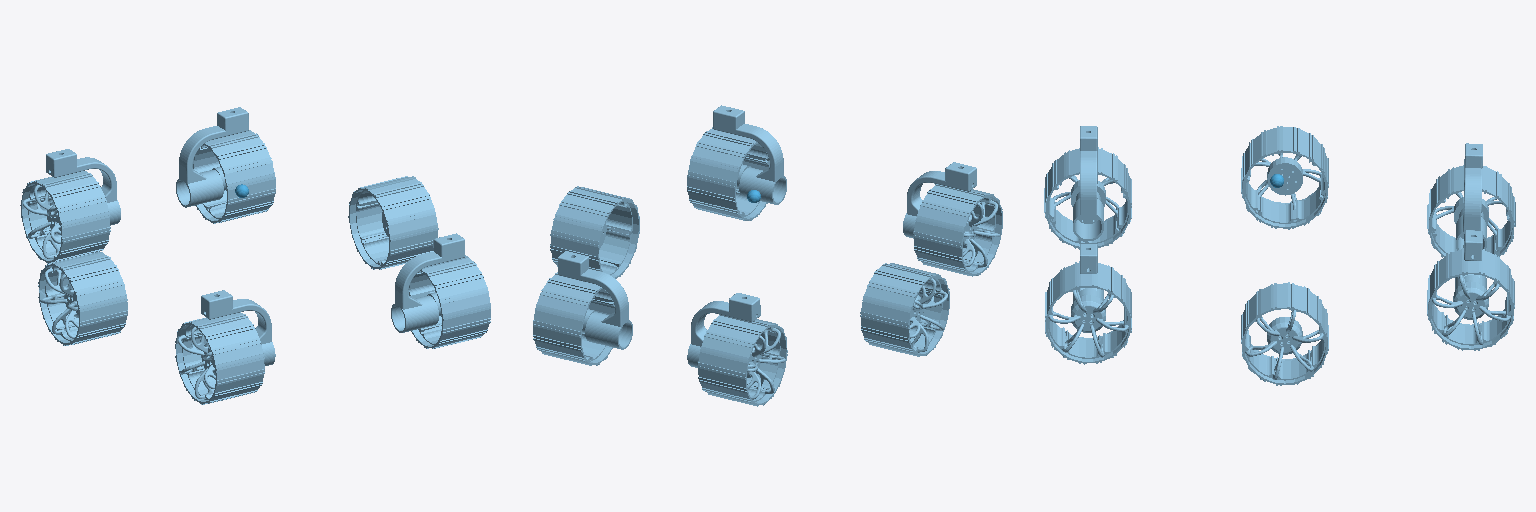
URDF robot description (onshape):
<?xml version="1.0"?>
<robot name="onshape">
  <link name="base_footprint"/>
  <joint name="base_link_joint" type="fixed">
    <origin xyz="0 0 0"/>
    <parent link="base_footprint"/>
    <child link="chassis"/>
  </joint>
  
  <joint name="odom_joint" type="fixed">
    <origin xyz="0 0 0" rpy="0 0 0"/>
    <parent link="base_footprint"/> <!-- Link to which odometry is attached -->
    <child link="odom_frame"/> <!-- Virtual frame for odometry -->
  </joint>

  <!-- Define the odometry frame -->
  <link name="odom_frame">
    <visual>
      <geometry>
        <sphere radius="0.01"/>
      </geometry>
      <origin xyz="0 0 0"/>
      <material name="green"/>
    </visual>
  </link>
  
  <link name="chassis" fixed="true">
    <visual>
      <origin xyz="-0.03718799868843190165 -0.081251381712626469245 -0.0017107222747138051133" rpy="-8.3773621169764238411e-06 -5.8066983330119570565e-19 0.07713425700282869335" />
      <geometry>
        <mesh filename="package://rover/models/meshes/chassis.stl"/>
      </geometry>
      <material name="chassis_material">
        <color rgba="0.61568627450980395466 0.81176470588235294379 0.92941176470588238168 1.0"/>
      </material>
    </visual>
    <collision>
      <origin xyz="-0.03718799868843190165 -0.081251381712626469245 -0.0017107222747138051133" rpy="-8.3773621169764238411e-06 -5.8066983330119570565e-19 0.07713425700282869335" />
      <geometry>
        <mesh filename="package://rover/models/meshes/chassis.stl"/>
      </geometry>
    </collision>
    <inertial>
      <origin xyz="4.0333930659344763292e-05 0.013225025171512678687 0.053515573621794092218" rpy="0 0 0"/>
      <mass value="5.9468619131649678167" />
      <inertia ixx="0.19391223301279014724" ixy="1.4956230163703002927e-05"  ixz="-2.0041406938227164552e-05" iyy="0.16823388064316932566" iyz="0.0096750762596630943135" izz="0.30388176946509198872" />
    </inertial>
  </link>
  
  <gazebo reference="chassis">
    <kp>100.0</kp>
    <kd>100.0</kd>
    <mu1>1000</mu1>
    <mu2>100</mu2>
    <material>Gazebo/Purple</material>
  </gazebo>

  <link name="support_moteur">
    <visual>
      <origin xyz="0.035612098872661535065 0.0025613712421794498919 0.067283757431432611451" rpy="3.141592653589793116 -7.6595649636237861335e-18 -1.6669056141565984203e-23" />
      <geometry>
        <mesh filename="package://rover/models/meshes/support_moteur.stl"/>
      </geometry>
      <material name="support_moteur_material">
        <color rgba="0.61568627450980395466 0.81176470588235294379 0.92941176470588238168 1.0"/>
      </material>
    </visual>
    <collision>
      <origin xyz="0.035612098872661535065 0.0025613712421794498919 0.067283757431432611451" rpy="3.141592653589793116 -7.6595649636237861335e-18 -1.6669056141565984203e-23" />
      <geometry>
        <mesh filename="package://rover/models/meshes/support_moteur.stl"/>
      </geometry>
    </collision>
    <inertial>
      <origin xyz="-3.5655571967163623981e-09 -0.035720073158388938872 0.033313845473093538219" rpy="0 0 0"/>
      <mass value="0.1261025751619543056" />
      <inertia ixx="0.00032267676521751390483" ixy="-5.26420480385343299e-11" ixz="5.2372489344992306686e-11" iyy="0.00022088292705418790911" iyz="6.866177628514873719e-05" izz="0.00012552564187253730096" />
    </inertial>
  </link>
  
  <gazebo reference="support_moteur">
    <kp>100.0</kp>
    <kd>100.0</kd>
    <mu1>1000</mu1>
    <mu2>100</mu2>
    <material>Gazebo/Orange</material>
  </gazebo>

  <link name="roue">
    <visual>
      <origin xyz="0.067096134595640871678 0.017986927691603593615 0.081822884643595744647" rpy="1.570796326794896558 -2.7846587975614975738e-20 3.9621883130694195029e-19" />
      <geometry>
        <mesh filename="package://rover/models/meshes/roue.stl"/>
      </geometry>
      <material name="roue_material">
        <color rgba="0.61568627450980395466 0.81176470588235294379 0.92941176470588238168 1.0"/>
      </material>
    </visual>
    <collision>
      <origin xyz="0.067096134595640871678 0.017986927691603593615 0.081822884643595744647" rpy="1.570796326794896558 -2.7846587975614975738e-20 3.9621883130694195029e-19" />
      <geometry>
        <mesh filename="package://rover/models/meshes/roue.stl"/>
      </geometry>
    </collision>
    <inertial>
      <origin xyz="-2.9159728651972915969e-05 7.7994517747141667297e-06 -0.0085777288815240965159" rpy="0 0 0"/>
      <mass value="0.25996128823147324205" />
      <inertia ixx="0.00042902430460375868366" ixy="2.6669967579390062301e-11"  ixz="2.7122040216020466021e-08" iyy="0.00042902439611826093157" iyz="-7.2546738756241500894e-09" izz="0.00065961754025684537443" />
    </inertial>
  </link>
  
  <gazebo reference="roue">
    <kp>100.0</kp>
    <kd>100.0</kd>
    <mu1>1000</mu1>
    <mu2>100</mu2>
    <material>Gazebo/Green</material>
  </gazebo>

  <joint name="RightBack_wheel" type="continuous">
    <origin xyz="-1.1102230246251565404e-16 -0.010000000000000064393 0.070000000000000020539" rpy="-1.5707963267907507632 1.5707684244290538444 3.1415926535878537784" />
    <parent link="support_moteur" />
    <child link="roue" />
    <axis xyz="0 0 1"/>
    <limit effort="1" velocity="20" />
    <joint_properties friction="0.0"/>
  </joint>

  <joint name="RightBackSupport" type="continuous">
    <origin xyz="-0.14295706512309536151 0.27378000351859554939 -0.047774398222807878955" rpy="-3.1413754086991882986 -0.035604964714728820629 -1.5708040601574915218" />
    <parent link="chassis" />
    <child link="support_moteur" />
    <axis xyz="0 0 1"/>
    <limit effort="1" velocity="20" />
    <joint_properties friction="0.0"/>
  </joint>

  <link name="roue_2">
    <visual>
      <origin xyz="0.067096134595640843923 0.017986927691603579738 0.081822884643595716891" rpy="1.570796326794896558 -2.4294903120028627198e-23 -8.2364048172013691025e-19" />
      <geometry>
        <mesh filename="package://rover/models/meshes/roue.stl"/>
      </geometry>
      <material name="roue_material">
        <color rgba="0.61568627450980395466 0.81176470588235294379 0.92941176470588238168 1.0"/>
      </material>
    </visual>
    <collision>
      <origin xyz="0.067096134595640843923 0.017986927691603579738 0.081822884643595716891" rpy="1.570796326794896558 -2.4294903120028627198e-23 -8.2364048172013691025e-19" />
      <geometry>
        <mesh filename="package://rover/models/meshes/roue.stl"/>
      </geometry>
    </collision>
    <inertial>
      <origin xyz="-2.9159728651972915969e-05 7.7994517746968194949e-06 -0.0085777288815241242714" rpy="0 0 0"/>
      <mass value="0.25996128823147324205" />
      <inertia ixx="0.00042902430460375824998" ixy="2.6669967575306287772e-11"  ixz="2.7122040216020423008e-08" iyy="0.00042902439611826103999" iyz="-7.2546738756241542253e-09" izz="0.00065961754025684537443" />
    </inertial>
  </link>
  
  <gazebo reference="roue_2">
    <kp>100.0</kp>
    <kd>100.0</kd>
    <mu1>1000</mu1>
    <mu2>100</mu2>
    <material>Gazebo/Green</material>
  </gazebo>

  <joint name="RightMid_wheel" type="continuous">
    <origin xyz="-0.25394227674212060952 0.011189264940975884866 -0.11590201700749945546" rpy="1.5705792187467895182 0.0027901732451962842421 1.5707957210266039194" />
    <parent link="chassis" />
    <child link="roue_2" />
    <axis xyz="0 0 1"/>
    <limit effort="1" velocity="20" />
    <joint_properties friction="0.0"/>
  </joint>

  <link name="support_moteur_2">
    <visual>
      <origin xyz="0.035612098872661535065 0.0025613712421793943808 0.067283757431432611451" rpy="3.141592653589793116 3.1404577457176349549e-19 3.9907858072068520021e-23" />
      <geometry>
        <mesh filename="package://rover/models/meshes/support_moteur.stl"/>
      </geometry>
      <material name="support_moteur_material">
        <color rgba="0.61568627450980395466 0.81176470588235294379 0.92941176470588238168 1.0"/>
      </material>
    </visual>
    <collision>
      <origin xyz="0.035612098872661535065 0.0025613712421793943808 0.067283757431432611451" rpy="3.141592653589793116 3.1404577457176349549e-19 3.9907858072068520021e-23" />
      <geometry>
        <mesh filename="package://rover/models/meshes/support_moteur.stl"/>
      </geometry>
    </collision>
    <inertial>
      <origin xyz="-3.5655571828385745903e-09 -0.035720073158388994383 0.03331384547309353128" rpy="0 0 0"/>
      <mass value="0.1261025751619543056" />
      <inertia ixx="0.00032267676521751368799" ixy="-5.2642048038875768085e-11"  ixz="5.2372489341794607384e-11" iyy="0.00022088292705418790911" iyz="6.8661776285148750742e-05" izz="0.00012552564187253735517" />
    </inertial>
  </link>
  
  <gazebo reference="support_moteur_2">
    <kp>100.0</kp>
    <kd>100.0</kd>
    <mu1>1000</mu1>
    <mu2>100</mu2>
    <material>Gazebo/Orange</material>
  </gazebo>

  <link name="roue_3">
    <visual>
      <origin xyz="0.067096134595640954945 0.01798692769160356586 0.08182288464359578628" rpy="1.570796326794896558 4.9925861120469313572e-21 5.4749102811328692944e-17" />
      <geometry>
        <mesh filename="package://rover/models/meshes/roue.stl"/>
      </geometry>
      <material name="roue_material">
        <color rgba="0.61568627450980395466 0.81176470588235294379 0.92941176470588238168 1.0"/>
      </material>
    </visual>
    <collision>
      <origin xyz="0.067096134595640954945 0.01798692769160356586 0.08182288464359578628" rpy="1.570796326794896558 4.9925861120469313572e-21 5.4749102811328692944e-17" />
      <geometry>
        <mesh filename="package://rover/models/meshes/roue.stl"/>
      </geometry>
    </collision>
    <inertial>
      <origin xyz="-2.9159728651875771455e-05 7.7994517746794722601e-06 -0.0085777288815240548825" rpy="0 0 0"/>
      <mass value="0.25996128823147324205" />
      <inertia ixx="0.00042902430460375846682" ixy="2.6669967585896535752e-11"  ixz="2.7122040216020419699e-08" iyy="0.00042902439611826103999" iyz="-7.2546738756241567069e-09" izz="0.00065961754025684537443" />
    </inertial>
  </link>
  
  <gazebo reference="roue_3">
    <kp>100.0</kp>
    <kd>100.0</kd>
    <mu1>1000</mu1>
    <mu2>100</mu2>
    <material>Gazebo/Green</material>
  </gazebo>

  <joint name="RightFront_wheel" type="continuous">
    <origin xyz="5.5511151231257827021e-17 -0.010000000000000064393 0.070000000000000034417" rpy="1.570796326794896558 0.3974145646258926412 -1.8181703633339774905e-15" />
    <parent link="support_moteur_2" />
    <child link="roue_3" />
    <axis xyz="0 0 1"/>
    <limit effort="1" velocity="20" />
    <joint_properties friction="0.0"/>
  </joint>


  <joint name="RightFrontSupport" type="continuous">
    <origin xyz="-0.19395769947104912756 -0.26340936077356219558 -0.044858115474425572233" rpy="-3.1413755455301961561 -0.0028090745865081189273 -1.5707969366668381728" />
    <parent link="chassis" />
    <child link="support_moteur_2" />
    <axis xyz="0 0 1"/>
    <limit effort="1" velocity="20" />
    <joint_properties friction="0.0"/>
  </joint>

  <link name="support_moteur_3">
    <visual>
      <origin xyz="0.035612098872661590576 0.0025613712421794221363 0.067283757431432611451" rpy="3.141592653589793116 -3.2649838596906560817e-19 3.1841906313042750286e-23" />
      <geometry>
        <mesh filename="package://rover/models/meshes/support_moteur.stl"/>
      </geometry>
      <material name="support_moteur_material">
        <color rgba="0.61568627450980395466 0.81176470588235294379 0.92941176470588238168 1.0"/>
      </material>
    </visual>
    <collision>
      <origin xyz="0.035612098872661590576 0.0025613712421794221363 0.067283757431432611451" rpy="3.141592653589793116 -3.2649838596906560817e-19 3.1841906313042750286e-23" />
      <geometry>
        <mesh filename="package://rover/models/meshes/support_moteur.stl"/>
      </geometry>
    </collision>
    <inertial>
      <origin xyz="-3.5655571342663172629e-09 -0.035720073158388966628 0.033313845473093538219" rpy="0 0 0"/>
      <mass value="0.1261025751619543056" />
      <inertia ixx="0.00032267676521751379641" ixy="-5.26420480388474113e-11"  ixz="5.2372489342053107787e-11" iyy="0.00022088292705418790911" iyz="6.866177628514873719e-05" izz="0.00012552564187253730096" />
    </inertial>
  </link>
  
  <gazebo reference="support_moteur_3">
    <kp>100.0</kp>
    <kd>100.0</kd>
    <mu1>1000</mu1>
    <mu2>100</mu2>
    <material>Gazebo/Orange</material>
  </gazebo>

  <link name="roue_4">
    <visual>
      <origin xyz="0.067096134595640816167 0.017986927691603593615 0.081822884643595800158" rpy="1.570796326794896558 -9.9763636455054979645e-21 3.1237935071947638874e-17" />
      <geometry>
        <mesh filename="package://rover/models/meshes/roue.stl"/>
      </geometry>
      <material name="roue_material">
        <color rgba="0.61568627450980395466 0.81176470588235294379 0.92941176470588238168 1.0"/>
      </material>
    </visual>
    <collision>
      <origin xyz="0.067096134595640816167 0.017986927691603593615 0.081822884643595800158" rpy="1.570796326794896558 -9.9763636455054979645e-21 3.1237935071947638874e-17" />
      <geometry>
        <mesh filename="package://rover/models/meshes/roue.stl"/>
      </geometry>
    </collision>
    <inertial>
      <origin xyz="-2.9159728652000671545e-05 7.7994517747037583888e-06 -0.0085777288815240410047" rpy="0 0 0"/>
      <mass value="0.25996128823147324205" />
      <inertia ixx="0.0004290243046037583584" ixy="2.6669967619972027829e-11"  ixz="2.7122040216020426317e-08" iyy="0.00042902439611826125683" iyz="-7.2546738756241666331e-09" izz="0.00065961754025684537443" />
    </inertial>
  </link>
  
  <gazebo reference="roue_4">
    <kp>100.0</kp>
    <kd>100.0</kd>
    <mu1>1000</mu1>
    <mu2>100</mu2>
    <material>Gazebo/Green</material>
  </gazebo>

  <joint name="LeftFront_wheel" type="continuous">
    <origin xyz="5.5511151231257827021e-17 -0.010000000000000064393 0.070000000000000020539" rpy="-1.570796326794896558 0.40743128447210408272 -3.1415926535897922278" />
    <parent link="support_moteur_3" />
    <child link="roue_4" />
    <axis xyz="0 0 1"/>
    <limit effort="1" velocity="20" />
    <joint_properties friction="0.0"/>
  </joint>

  <joint name="LeftFrontSupport" type="continuous">
    <origin xyz="0.19404229138170750457 -0.26341419760774820169 -0.044773864291912227054" rpy="3.1413755455301961561 0.0028090745932251508059 1.5707957169229560535" />
    <parent link="chassis" />
    <child link="support_moteur_3" />
    <axis xyz="0 0 1"/>
    <limit effort="1" velocity="20" />
    <joint_properties friction="0.0"/>
  </joint>

  <link name="roue_5">
    <visual>
      <origin xyz="0.067096134595640899434 0.017986927691603607493 0.081822884643595772403" rpy="1.570796326794896558 -4.4394081325222050905e-23 3.1006339348262640891e-19" />
      <geometry>
        <mesh filename="package://rover/models/meshes/roue.stl"/>
      </geometry>
      <material name="roue_material">
        <color rgba="0.61568627450980395466 0.81176470588235294379 0.92941176470588238168 1.0"/>
      </material>
    </visual>
    <collision>
      <origin xyz="0.067096134595640899434 0.017986927691603607493 0.081822884643595772403" rpy="1.570796326794896558 -4.4394081325222050905e-23 3.1006339348262640891e-19" />
      <geometry>
        <mesh filename="package://rover/models/meshes/roue.stl"/>
      </geometry>
    </collision>
    <inertial>
      <origin xyz="-2.9159728651931282606e-05 7.7994517747211056236e-06 -0.0085777288815240548825" rpy="0 0 0"/>
      <mass value="0.25996128823147324205" />
      <inertia ixx="0.00042902430460375846682" ixy="2.6669967576146215367e-11"  ixz="2.7122040216020426317e-08" iyy="0.00042902439611826125683" iyz="-7.2546738756241401633e-09" izz="0.00065961754025684515759" />
    </inertial>
  </link>
  
  <gazebo reference="roue_5">
    <kp>100.0</kp>
    <kd>100.0</kd>
    <mu1>1000</mu1>
    <mu2>100</mu2>
    <material>Gazebo/Green</material>
  </gazebo>

  <joint name="LeftMid_wheel" type="continuous">
    <origin xyz="0.25405761065863569081 0.01066012069403872442 -0.11532823747056963892" rpy="-1.5710134348430033757 0.0027901732452008656468 1.5707957210266072501" />
    <parent link="chassis" />
    <child link="roue_5" />
    <axis xyz="0 0 1"/>
    <limit effort="1" velocity="20" />
    <joint_properties friction="0.0"/>
  </joint>

  <link name="support_moteur_4">
    <visual>
      <origin xyz="0.035612098872661646087 0.0025613712421793943808 0.067283757431432583695" rpy="3.141592653589793116 -6.9496591233028352964e-18 4.5896195954411265081e-22" />
      <geometry>
        <mesh filename="package://rover/models/meshes/support_moteur.stl"/>
      </geometry>
      <material name="support_moteur_material">
        <color rgba="0.61568627450980395466 0.81176470588235294379 0.92941176470588238168 1.0"/>
      </material>
    </visual>
    <collision>
      <origin xyz="0.035612098872661646087 0.0025613712421793943808 0.067283757431432583695" rpy="3.141592653589793116 -6.9496591233028352964e-18 4.5896195954411265081e-22" />
      <geometry>
        <mesh filename="package://rover/models/meshes/support_moteur.stl"/>
      </geometry>
    </collision>
    <inertial>
      <origin xyz="-3.5655570787551660317e-09 -0.035720073158388987444 0.033313845473093517402" rpy="0 0 0"/>
      <mass value="0.1261025751619543056" />
      <inertia ixx="0.00032267676521751379641" ixy="-5.2642048039415251403e-11"  ixz="5.2372489343151164201e-11" iyy="0.00022088292705418780069" iyz="6.8661776285148723637e-05" izz="0.00012552564187253724675" />
    </inertial>
  </link>
  
  <gazebo reference="support_moteur_4">
    <kp>100.0</kp>
    <kd>100.0</kd>
    <mu1>1000</mu1>
    <mu2>100</mu2>
    <material>Gazebo/Orange</material>
  </gazebo>

  <link name="roue_6">
    <visual>
      <origin xyz="0.067096134595640899434 0.017986927691603593615 0.081822884643595758525" rpy="1.570796326794896558 6.2776095592436274358e-21 -4.2113699583019540429e-17" />
      <geometry>
        <mesh filename="package://rover/models/meshes/roue.stl"/>
      </geometry>
      <material name="roue_material">
        <color rgba="0.61568627450980395466 0.81176470588235294379 0.92941176470588238168 1.0"/>
      </material>
    </visual>
    <collision>
      <origin xyz="0.067096134595640899434 0.017986927691603593615 0.081822884643595758525" rpy="1.570796326794896558 6.2776095592436274358e-21 -4.2113699583019540429e-17" />
      <geometry>
        <mesh filename="package://rover/models/meshes/roue.stl"/>
      </geometry>
    </collision>
    <inertial>
      <origin xyz="-2.9159728651931282606e-05 7.7994517747141667297e-06 -0.0085777288815240687603" rpy="0 0 0"/>
      <mass value="0.25996128823147324205" />
      <inertia ixx="0.00042902430460375846682" ixy="2.6669967539139557091e-11"  ixz="2.7122040216020416391e-08" iyy="0.00042902439611826103999" iyz="-7.2546738756241674602e-09" izz="0.00065961754025684515759" />
    </inertial>
  </link>
  
  <gazebo reference="roue_6">
    <kp>100.0</kp>
    <kd>100.0</kd>
    <mu1>1000</mu1>
    <mu2>100</mu2>
    <material>Gazebo/Green</material>
  </gazebo>


  <joint name="LeftBack_wheel" type="continuous">
    <origin xyz="5.5511151231257827021e-17 -0.010000000000000064393 0.069999999999999978906" rpy="1.570796326794896558 -0.47778786292888086873 -2.6721536103087266166e-15" />
    <parent link="support_moteur_4" />
    <child link="roue_6" />
    <axis xyz="0 0 1"/>
    <limit effort="1" velocity="20" />
    <joint_properties friction="0.0"/>
  </joint>

  <joint name="LeftBackSupport" type="continuous">
    <origin xyz="0.14304302206152949561 0.2734816369314826412 -0.048144925946073335865" rpy="3.141375381036094705 0.039016033201937409813 1.5707878518321440886" />
    <parent link="chassis" />
    <child link="support_moteur_4" />
    <axis xyz="0 0 1"/>
    <limit effort="1" velocity="20" />
    <joint_properties friction="0.0"/>
  </joint>
  
  <ros2_control name="GazeboSystem" type="system">
    <hardware>
      <plugin>gazebo_ros2_control/GazeboSystem</plugin>
    </hardware>
    
    <joint name="LeftFront_wheel">
      <command_interface name="velocity">
        <param name="min">-3.14</param>
        <param name="max">3.14</param>
      </command_interface>
      <state_interface name="velocity"/>
      <state_interface name="effort"/>
    </joint>

    <joint name="RightFront_wheel">
      <command_interface name="velocity">
        <param name="min">-3.14</param>
        <param name="max">3.14</param>
      </command_interface>
      <state_interface name="velocity"/>
      <state_interface name="effort"/>
    </joint>
    
    <joint name="LeftMid_wheel">
      <command_interface name="velocity">
        <param name="min">-3.14</param>
        <param name="max">3.14</param>
      </command_interface>
      <state_interface name="velocity"/>
      <state_interface name="effort"/>
    </joint>
    
    <joint name="RightMid_wheel">
      <command_interface name="velocity">
        <param name="min">-3.14</param>
        <param name="max">3.14</param>
      </command_interface>
      <state_interface name="velocity"/>
      <state_interface name="effort"/>
    </joint>

    <joint name="LeftBack_wheel">
      <command_interface name="velocity">
        <param name="min">-3.14</param>
        <param name="max">3.14</param>
      </command_interface>
      <state_interface name="velocity"/>
      <state_interface name="effort"/>
    </joint>

    <joint name="RightBack_wheel">
      <command_interface name="velocity">
        <param name="min">-3.14</param>
        <param name="max">3.14</param>
      </command_interface>
      <state_interface name="velocity"/>
      <state_interface name="effort"/>
    </joint>

    <joint name="LeftFrontSupport">
      <command_interface name="position">
        <param name="min">-1.0471975512</param>
        <param name="max">1.0471975512</param>
      </command_interface>
      <state_interface name="position">
        <param name="initial_value">0</param>
      </state_interface>
      <state_interface name="velocity"/>
      <state_interface name="effort"/>
    </joint>

    <joint name="RightFrontSupport">
      <command_interface name="position">
        <param name="min">-1.0471975512</param>
        <param name="max">1.0471975512</param>
      </command_interface>
      <state_interface name="position">
        <param name="initial_value">0</param>
      </state_interface>
      <state_interface name="velocity"/>
      <state_interface name="effort"/>
    </joint>

    <joint name="LeftBackSupport">
      <command_interface name="position">
        <param name="min">-1.0471975512</param>
        <param name="max">1.0471975512</param>
      </command_interface>
      <state_interface name="position">
        <param name="initial_value">0</param>
      </state_interface>
      <state_interface name="velocity"/>
      <state_interface name="effort"/>
    </joint>

    <joint name="RightBackSupport">
      <command_interface name="position">
        <param name="min">-1.0471975512</param>
        <param name="max">1.0471975512</param>
      </command_interface>
      <state_interface name="position">
        <param name="initial_value">0</param>
      </state_interface>
      <state_interface name="velocity"/>
      <state_interface name="effort"/>
    </joint>
  </ros2_control>
  
    <plugin name="gazebo_ros2_control" filename="libgazebo_ros2_control.so">
      <parameters>[local-path]/Desktop/four_ws_ros2/install/rover/share/rover/models/config/controllers.yaml</parameters>
    </plugin>

</robot>

--- Facts derived from the render (not from the file) ---
The picture shows the robot from 3 angles, left to right: view 1: azimuth 30°, elevation 25°; view 2: azimuth 150°, elevation 25°; view 3: azimuth 270°, elevation 25°; orthographic projection.
Robot: onshape — 13 links, 12 joints (10 continuous, 2 fixed); root link base_footprint; default pose: all joints at 0.
Visible links, largest first — view 1: roue_2, roue, roue_3, roue_5, roue_4, roue_6, support_moteur_3, support_moteur_4, support_moteur_2, support_moteur; view 2: roue_2, roue_3, roue, roue_5, roue_4, roue_6, support_moteur_4, support_moteur_3, support_moteur, support_moteur_2; view 3: roue_5, roue_2, roue_6, roue_4, roue_3, roue, support_moteur_2, support_moteur, support_moteur_4, support_moteur_3.
Boxes of the visible links, x1=… form: roue_2: x1=38, y1=252, x2=127, y2=345; roue: x1=20, y1=171, x2=110, y2=263; roue_3: x1=175, y1=312, x2=264, y2=404; roue_5: x1=348, y1=176, x2=438, y2=269; roue_4: x1=408, y1=255, x2=490, y2=348; roue_6: x1=193, y1=130, x2=275, y2=223; support_moteur_3: x1=391, y1=233, x2=464, y2=332; support_moteur_4: x1=176, y1=107, x2=248, y2=207; support_moteur_2: x1=201, y1=290, x2=275, y2=365; support_moteur: x1=46, y1=149, x2=120, y2=225; roue_2: x1=860, y1=263, x2=949, y2=356; roue_3: x1=913, y1=184, x2=1002, y2=276; roue: x1=698, y1=314, x2=787, y2=406; roue_5: x1=550, y1=186, x2=639, y2=278; roue_4: x1=687, y1=127, x2=769, y2=220; roue_6: x1=533, y1=272, x2=614, y2=365; support_moteur_4: x1=558, y1=251, x2=632, y2=349; support_moteur_3: x1=713, y1=105, x2=786, y2=204; support_moteur: x1=687, y1=293, x2=760, y2=367; support_moteur_2: x1=903, y1=162, x2=976, y2=238; roue_5: x1=1241, y1=282, x2=1328, y2=385; roue_2: x1=1241, y1=126, x2=1328, y2=229; roue_6: x1=1427, y1=248, x2=1514, y2=350; roue_4: x1=1045, y1=261, x2=1131, y2=364; roue_3: x1=1044, y1=147, x2=1131, y2=249; roue: x1=1427, y1=165, x2=1515, y2=257; support_moteur_2: x1=1073, y1=126, x2=1103, y2=240; support_moteur: x1=1456, y1=143, x2=1486, y2=250; support_moteur_4: x1=1455, y1=230, x2=1486, y2=289; support_moteur_3: x1=1073, y1=244, x2=1103, y2=301.
Size in the robot's own frame: 0.608 by 0.6577 by 0.1895 metres.
Meshes: 3 distinct files referenced, 10 mesh visuals loaded (2 binary STL); not drawn: 1 (reference not matched to a file when rendering).
